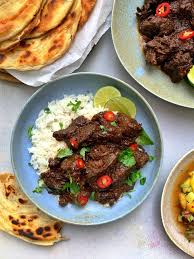rendang: (33, 93, 167, 212)
